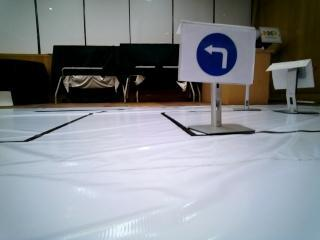left: (186, 24, 248, 84)
